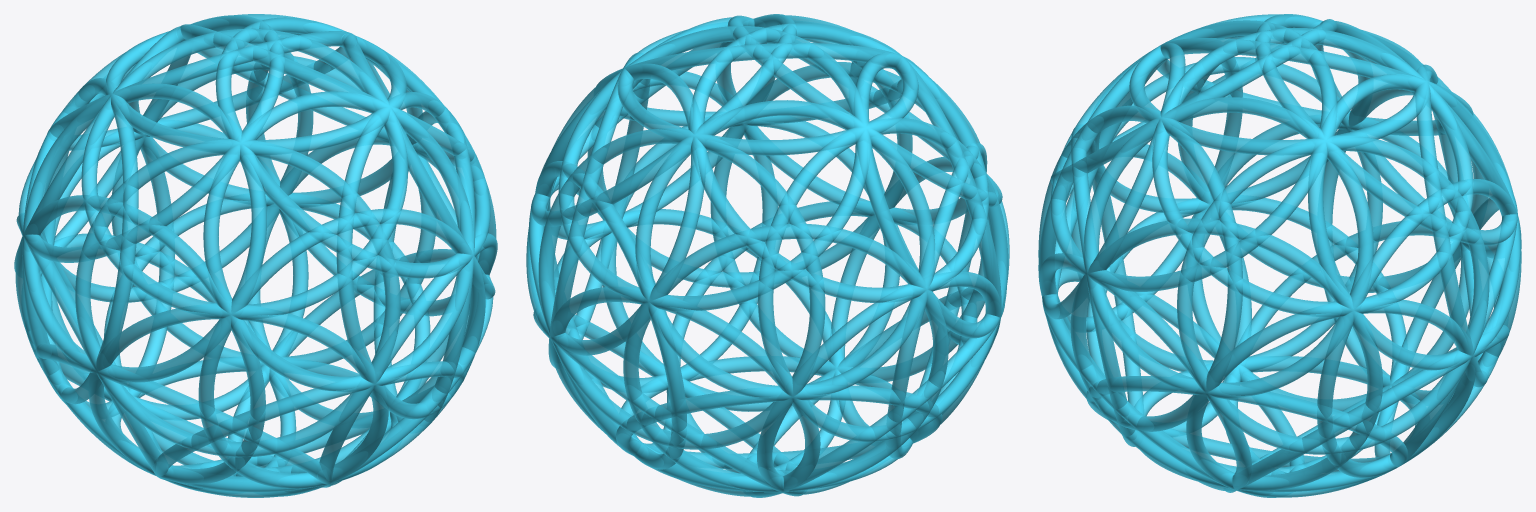
The model's file is flower-vr-floweroflife_v5.glb.
3 renders of one model, left to right at view 1: azimuth 30°, elevation 25°; view 2: azimuth 150°, elevation 25°; view 3: azimuth 270°, elevation 25°, orthographic.
Size of the model in its own units: 10.84 by 10.88 by 10.88.
